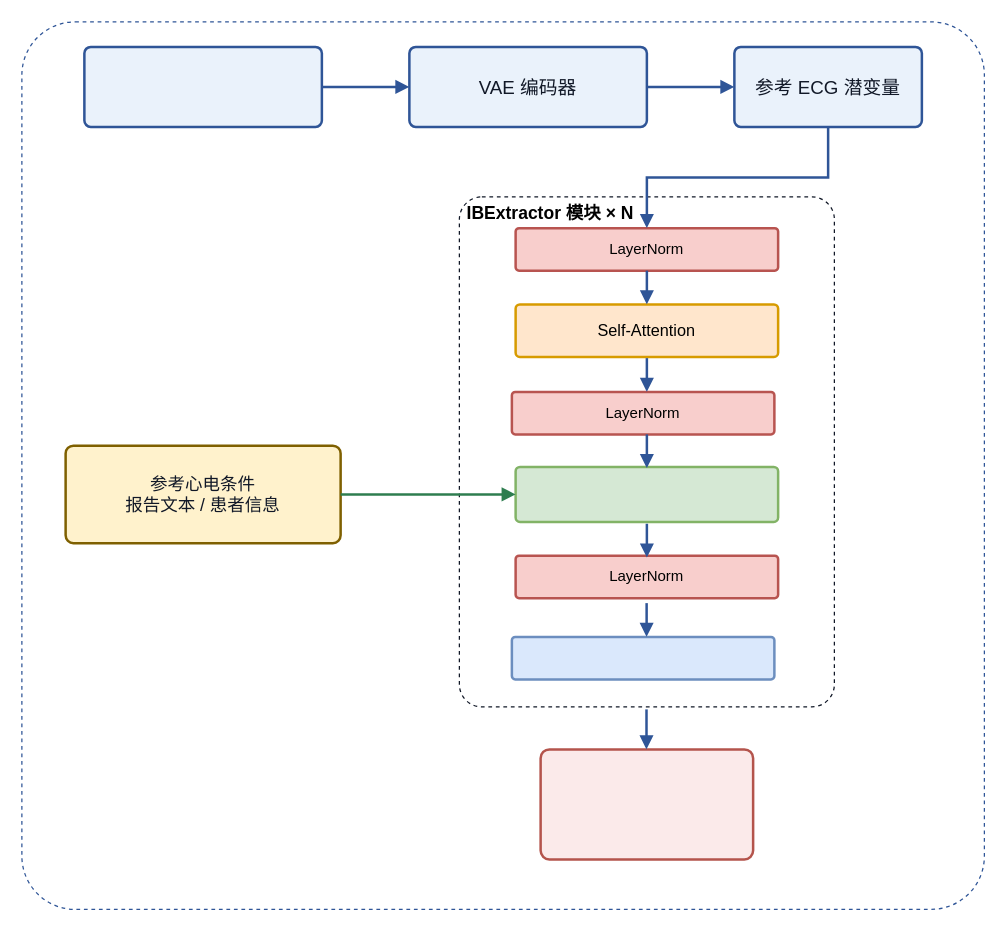
The diagram is 1006 pixels wide and 931 high, and some of its shapes have lost their labels. Each missing label, with the centre of its shape:
Cross-Attention: (646,493)
FFN: (642,657)
个体基础特征向量 (Base Vector): (646,804)
参考 ECG: (202,86)
